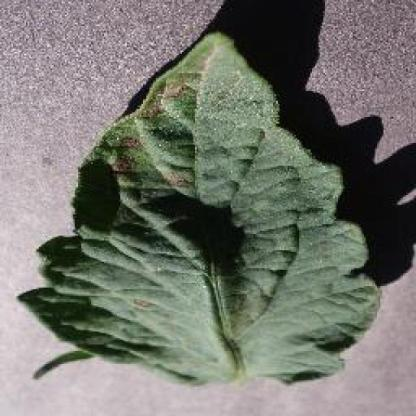Tomato_Blight: (19, 31, 380, 382)
